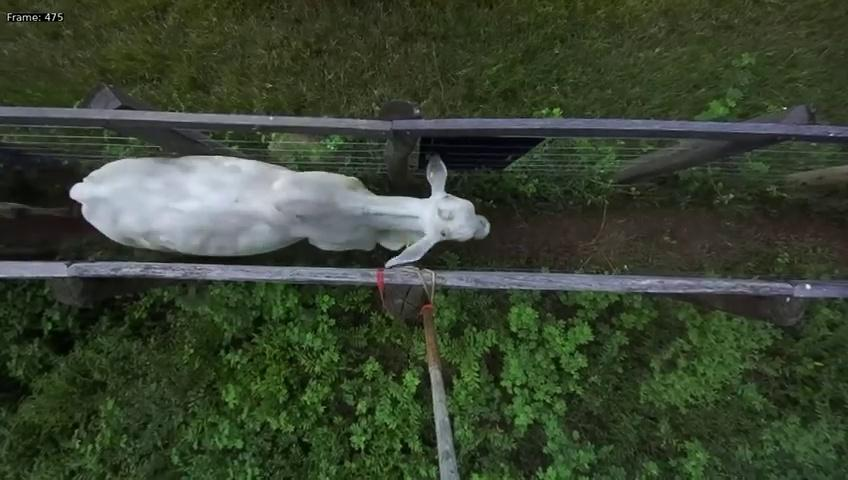cattle: (67, 133, 492, 268)
